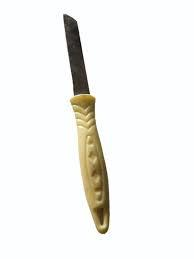Knife: (62, 12, 110, 234)
